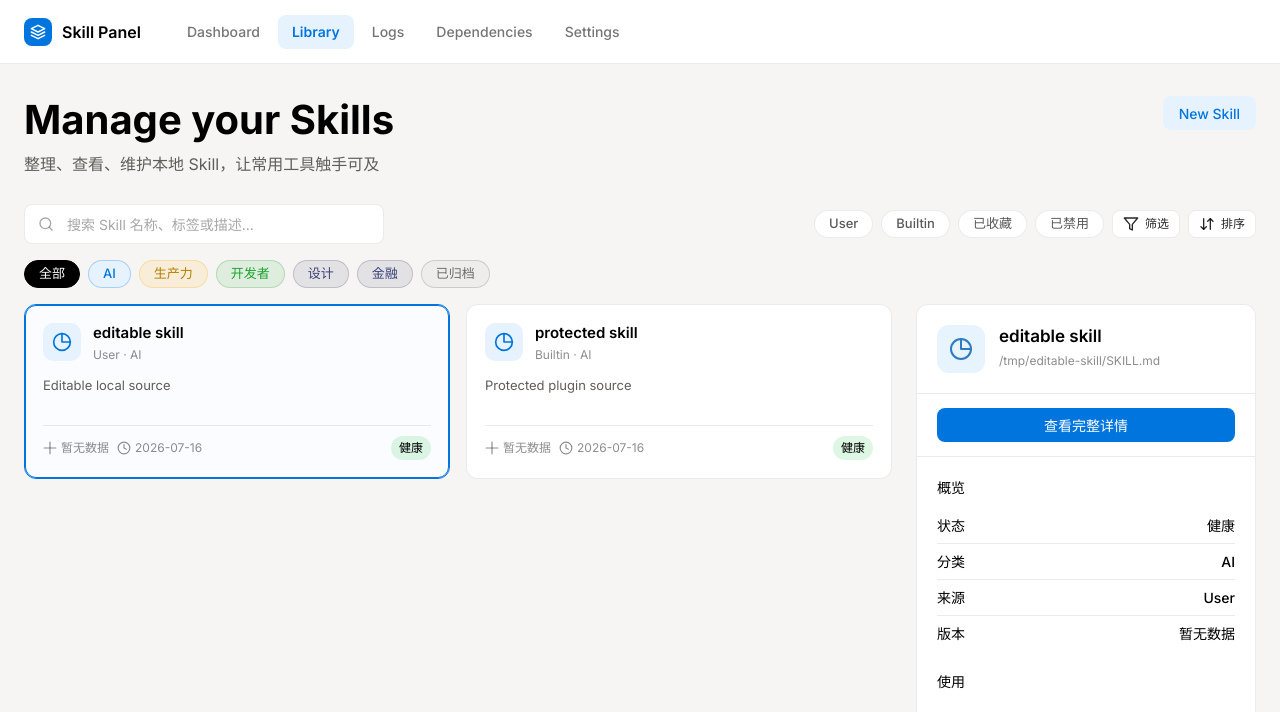
Test case: AppShell Tauri event fallback › opens an editable Library card in full Detail on double click without entering Editor
Double-click the button "editable skill".
double_click(62, 342)  # box [24,304,450,479]
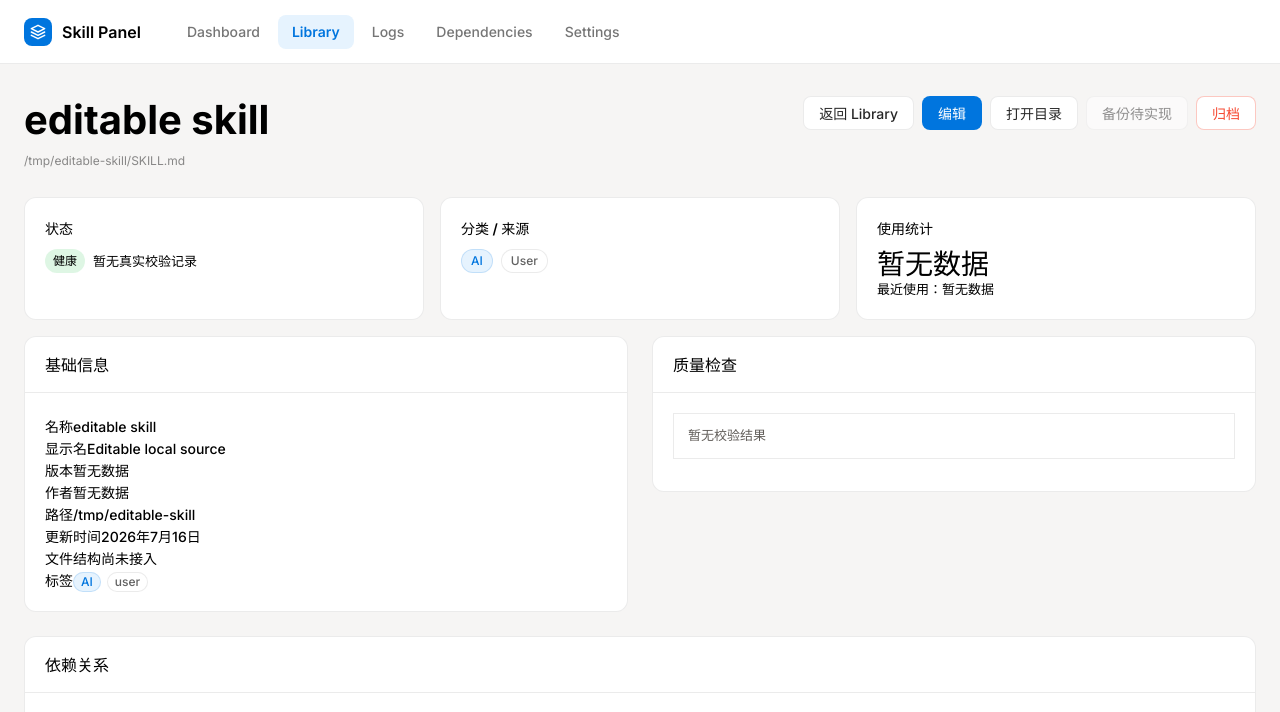
Expected: the text "/tmp/editable-skill/SKILL.md" is shown, [24,153,185,168]
Expected: the button "编辑" is shown, [922,96,982,130]
